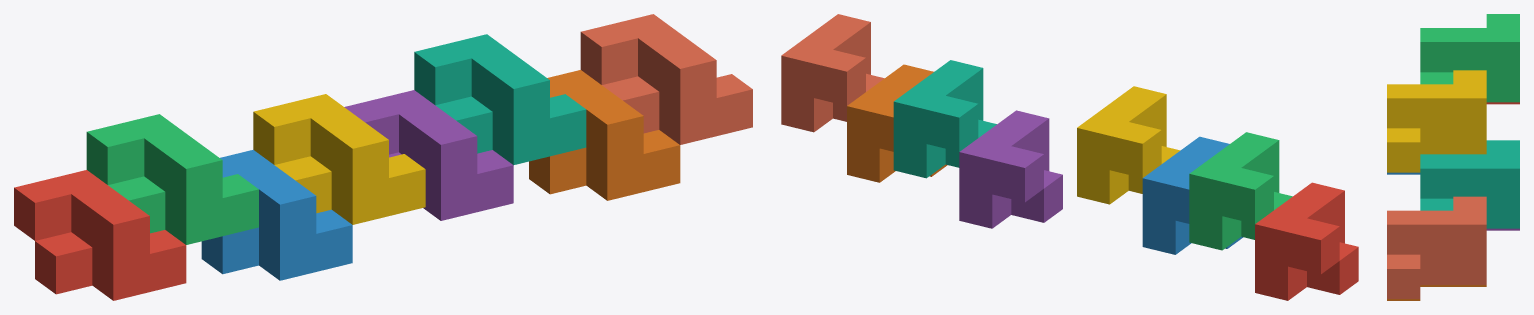
The model's file is tiling.obj.
3 views of the same model, side by side, from view 1: azimuth 30°, elevation 25°; view 2: azimuth 150°, elevation 25°; view 3: azimuth 270°, elevation 25° (orthographic). The views are drawn at different scales.
Visible parts, largest first — view 1: copy_1_domain_1, copy_1_domain_8, copy_1_domain_3, copy_1_domain_4, copy_1_domain_7, copy_1_domain_6, copy_1_domain_2, copy_1_domain_5; view 2: copy_1_domain_5, copy_1_domain_1, copy_1_domain_7, copy_1_domain_3, copy_1_domain_8, copy_1_domain_4, copy_1_domain_2, copy_1_domain_6; view 3: copy_1_domain_8, copy_1_domain_4, copy_1_domain_7, copy_1_domain_3, copy_1_domain_6.
Part boxes in pixels (x1=…): copy_1_domain_1: x1=14, y1=170, x2=186, y2=300; copy_1_domain_8: x1=580, y1=14, x2=752, y2=144; copy_1_domain_3: x1=86, y1=114, x2=258, y2=244; copy_1_domain_4: x1=253, y1=94, x2=425, y2=224; copy_1_domain_7: x1=414, y1=34, x2=586, y2=165; copy_1_domain_6: x1=529, y1=70, x2=680, y2=200; copy_1_domain_2: x1=201, y1=149, x2=352, y2=280; copy_1_domain_5: x1=344, y1=90, x2=513, y2=220; copy_1_domain_5: x1=959, y1=110, x2=1062, y2=228; copy_1_domain_1: x1=1255, y1=182, x2=1358, y2=300; copy_1_domain_7: x1=893, y1=60, x2=996, y2=178; copy_1_domain_3: x1=1189, y1=132, x2=1292, y2=250; copy_1_domain_8: x1=781, y1=14, x2=884, y2=132; copy_1_domain_4: x1=1077, y1=86, x2=1180, y2=204; copy_1_domain_2: x1=1142, y1=136, x2=1243, y2=254; copy_1_domain_6: x1=847, y1=64, x2=947, y2=182; copy_1_domain_8: x1=1387, y1=196, x2=1486, y2=298; copy_1_domain_4: x1=1387, y1=70, x2=1486, y2=172; copy_1_domain_7: x1=1420, y1=140, x2=1519, y2=228; copy_1_domain_3: x1=1420, y1=14, x2=1519, y2=102; copy_1_domain_6: x1=1387, y1=285, x2=1486, y2=300.
Size of the model in its own units: 18 by 3 by 4.
